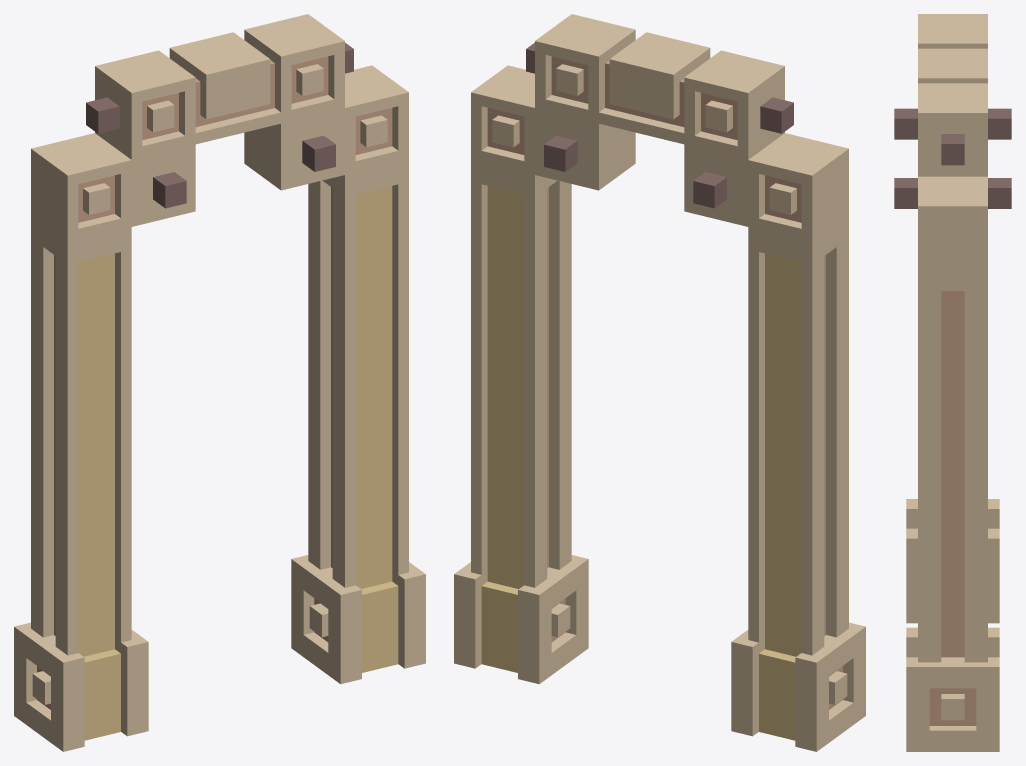
Rendered from BS_PortalFrame.fbx.
The picture shows the model from 3 angles, left to right: view 1: azimuth 30°, elevation 25°; view 2: azimuth 150°, elevation 25°; view 3: azimuth 270°, elevation 25°; orthographic projection. The views are drawn at different scales.
Visible parts, largest first — view 1: BS_PortalFrame; view 2: BS_PortalFrame; view 3: BS_PortalFrame.
Boxes of the visible parts, x1,y1,x2,y2 form: BS_PortalFrame: (14, 14, 425, 751); BS_PortalFrame: (454, 14, 865, 751); BS_PortalFrame: (894, 14, 1011, 751).
Bounding box in the file's own units: 85 × 25 × 142.
